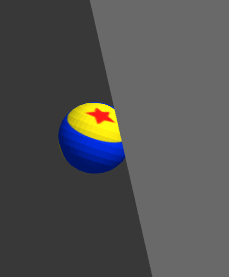toy story ball: (59, 102, 125, 174)
